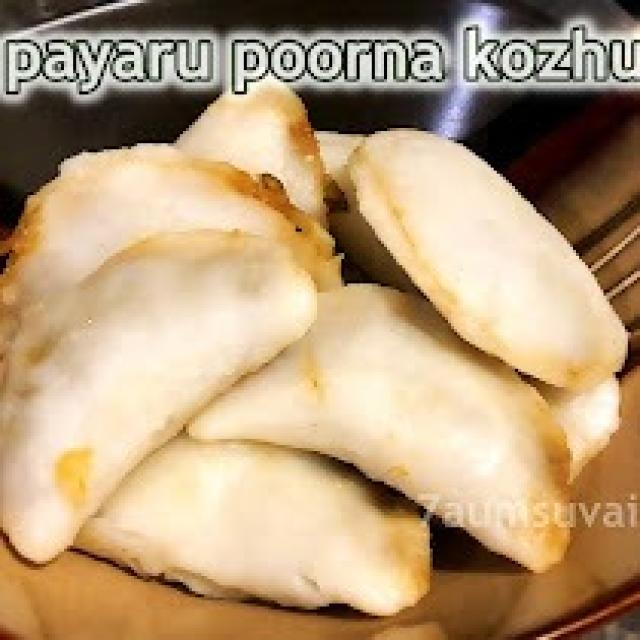poorna kolukattai: (0, 79, 616, 637)
